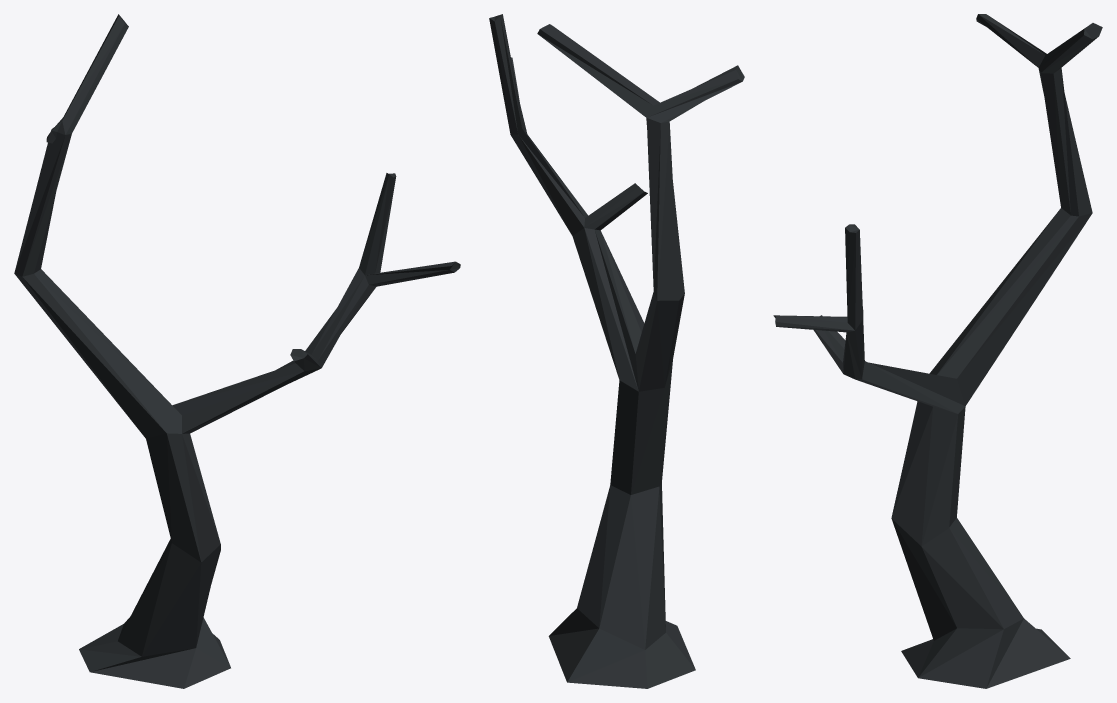
The model's file is KOKS_002.FBX.
3 renders of one model, left to right at view 1: azimuth 30°, elevation 25°; view 2: azimuth 150°, elevation 25°; view 3: azimuth 270°, elevation 25°, orthographic. The views are drawn at different scales.
Parts seen in each view (by area): view 1: KOKS_002; view 2: KOKS_002; view 3: KOKS_002.
Part boxes in pixels (x1,y1,x2,y2): KOKS_002: (14,14,460,688); KOKS_002: (489,14,744,688); KOKS_002: (773,14,1102,688).
Size of the model in its own units: 4160 by 7561 by 3522.
Materials: 1 (1 with a texture image).
